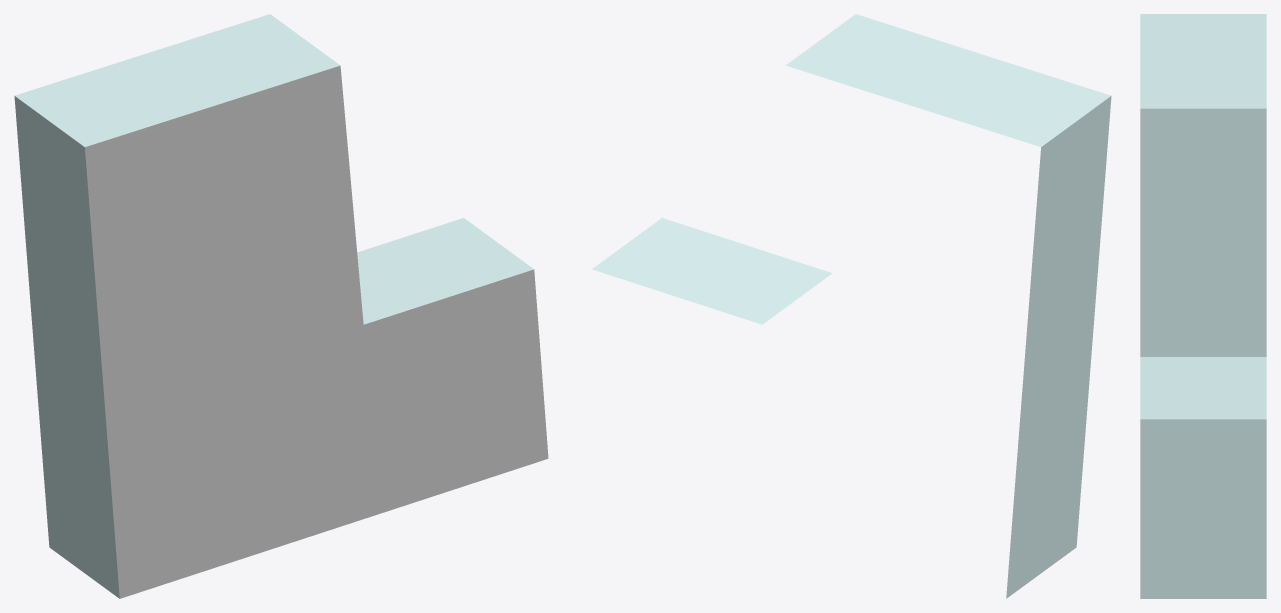
3 renders of one model, left to right at view 1: azimuth 30°, elevation 25°; view 2: azimuth 150°, elevation 25°; view 3: azimuth 270°, elevation 25°, orthographic. The views are drawn at different scales.
Visible parts, largest first — view 1: 0_2_3_3_3_1_2_1_1; view 2: 0_2_3_3_3_1_2_1_1; view 3: 0_2_3_3_3_1_2_1_1.
Boxes of the visible parts, x1=… form: 0_2_3_3_3_1_2_1_1: x1=14, y1=14, x2=548, y2=598; 0_2_3_3_3_1_2_1_1: x1=592, y1=14, x2=1111, y2=598; 0_2_3_3_3_1_2_1_1: x1=1140, y1=14, x2=1266, y2=598.
Bounding box in the file's own units: 11.4 × 11.27 × 3.
